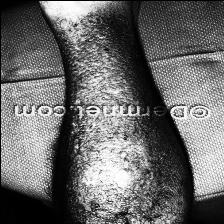Unclassified: (68, 122, 166, 224), (54, 12, 145, 98)
